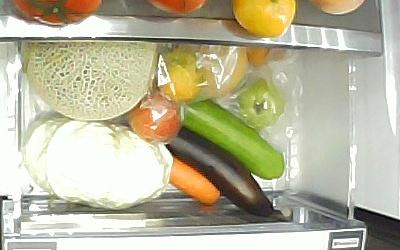cabbage: (21, 119, 174, 212)
carrot: (169, 158, 220, 205)
eggplant: (166, 126, 290, 222)
melon: (20, 42, 156, 120)
pear_vinyl: (169, 44, 248, 93)
prune_vinyl: (130, 95, 181, 141)
tangerine_vinyl: (156, 49, 204, 103)
tomato_vinyl: (233, 79, 286, 130)
zucchini: (181, 98, 285, 181)
